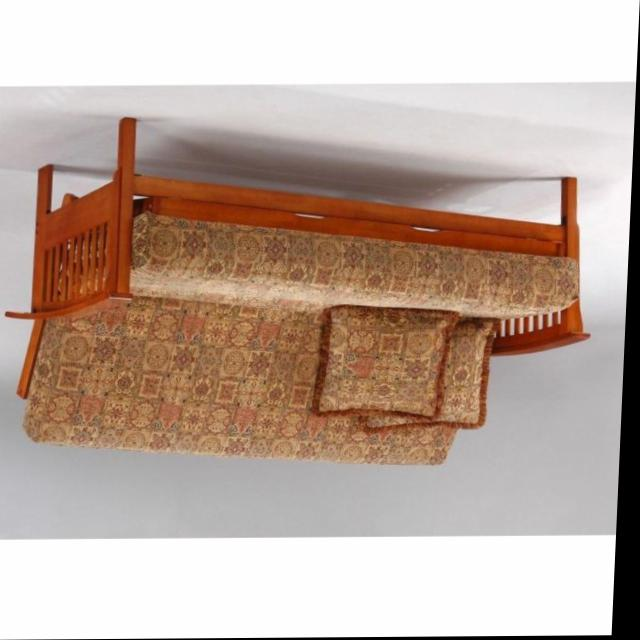Sofa: (0, 117, 602, 471)
